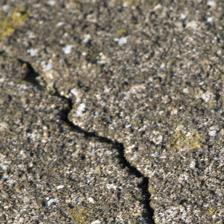Crack: (11, 30, 144, 189)
